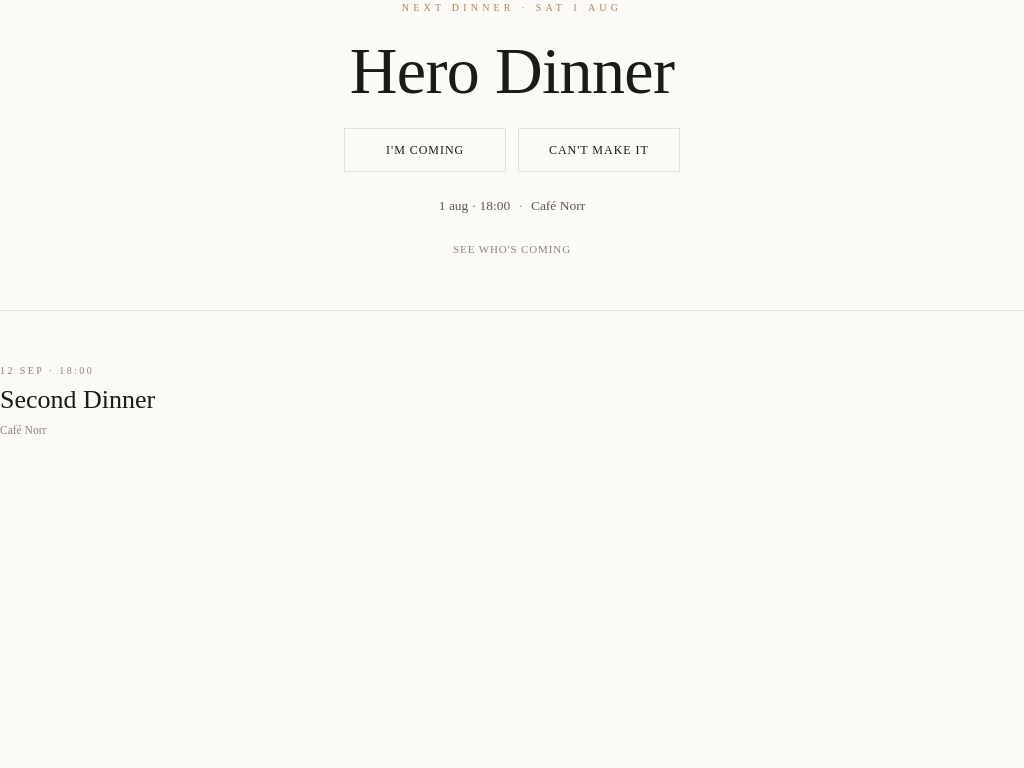
it: DinnersGallery Component › opens an upcoming dinner's dialog with its description and RSVP controls
The width and height of the screenshot is (1024, 768).
Click the button "12 SEP · 18:00 Second Dinner Café Norr" at x=47, y=371, box [0,363,317,439]
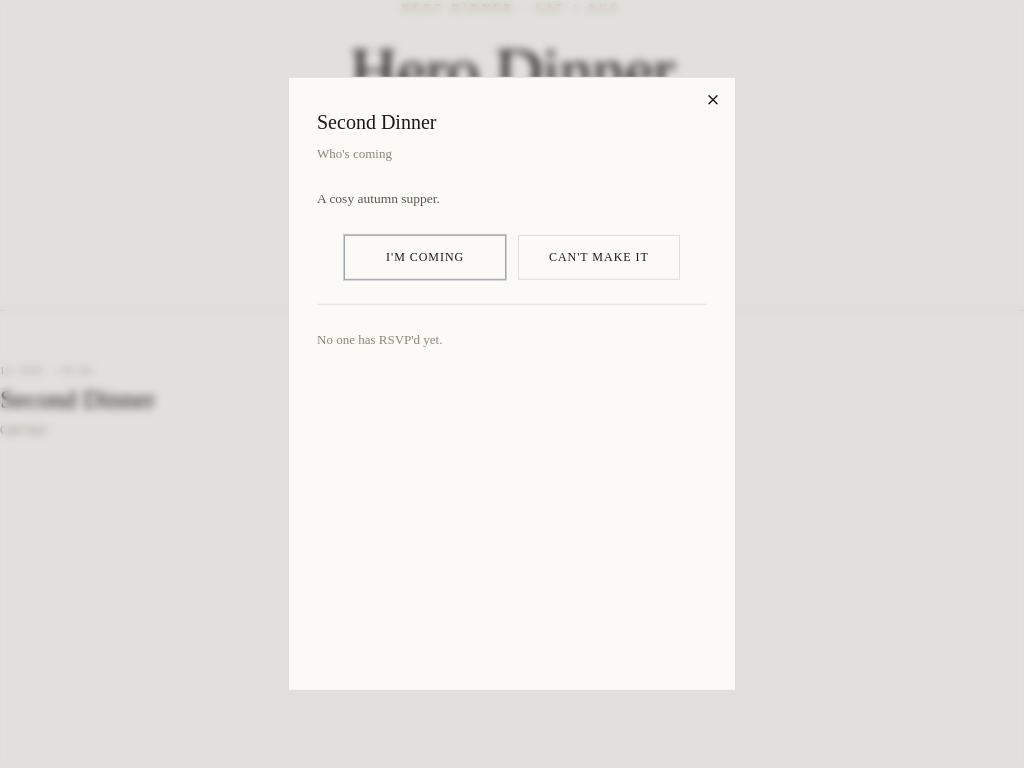
Now the text "A cosy autumn supper." is shown, box [317,190,440,205]
Now the button "I'm coming" is shown, box [344,234,506,280]
Now the button "Can't make it" is shown, box [518,234,680,280]
